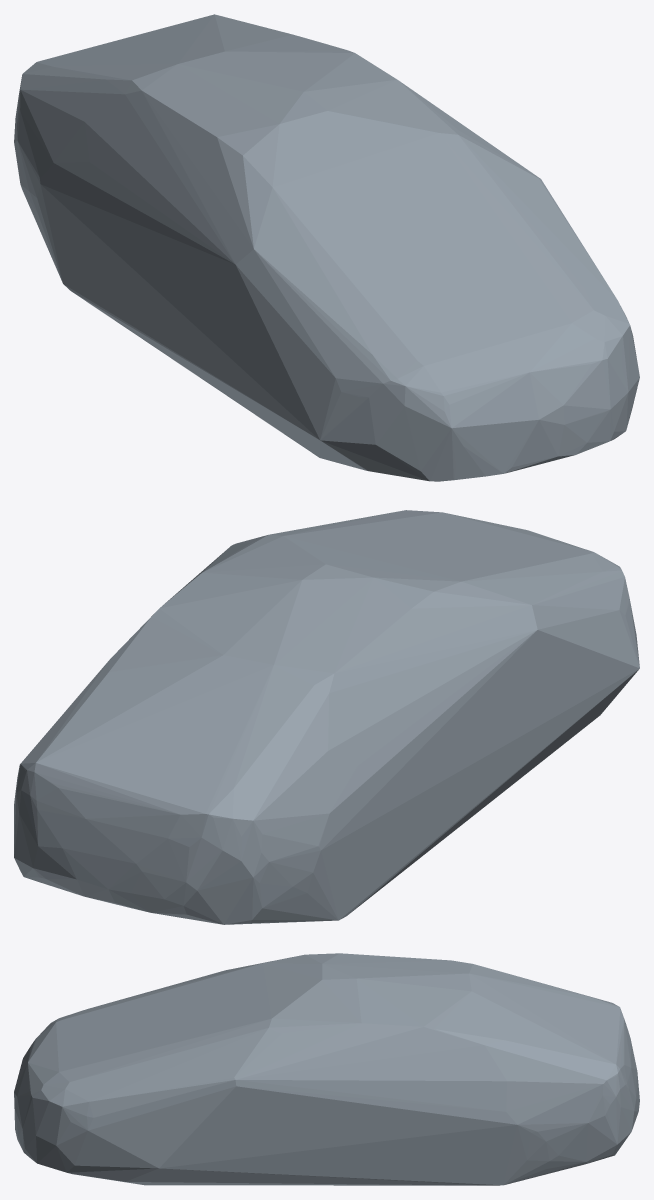
The model's file is grand-sedan-collision.glb.
3 renders of one model, top to bottom at view 1: azimuth 30°, elevation 25°; view 2: azimuth 150°, elevation 25°; view 3: azimuth 270°, elevation 25°, orthographic. The views are drawn at different scales.
Visible parts, largest first — view 1: grand-sedan_collision; view 2: grand-sedan_collision; view 3: grand-sedan_collision.
Boxes of the visible parts, x1=… form: grand-sedan_collision: x1=14, y1=14, x2=639, y2=481; grand-sedan_collision: x1=14, y1=510, x2=639, y2=924; grand-sedan_collision: x1=14, y1=953, x2=639, y2=1185.
Size of the model in its own units: 2.07 by 1.44 by 4.78.
